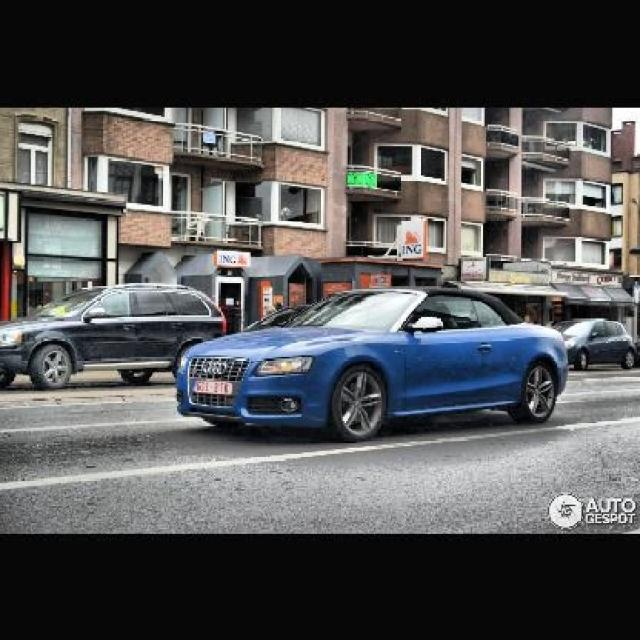blue: (180, 286, 565, 438)
